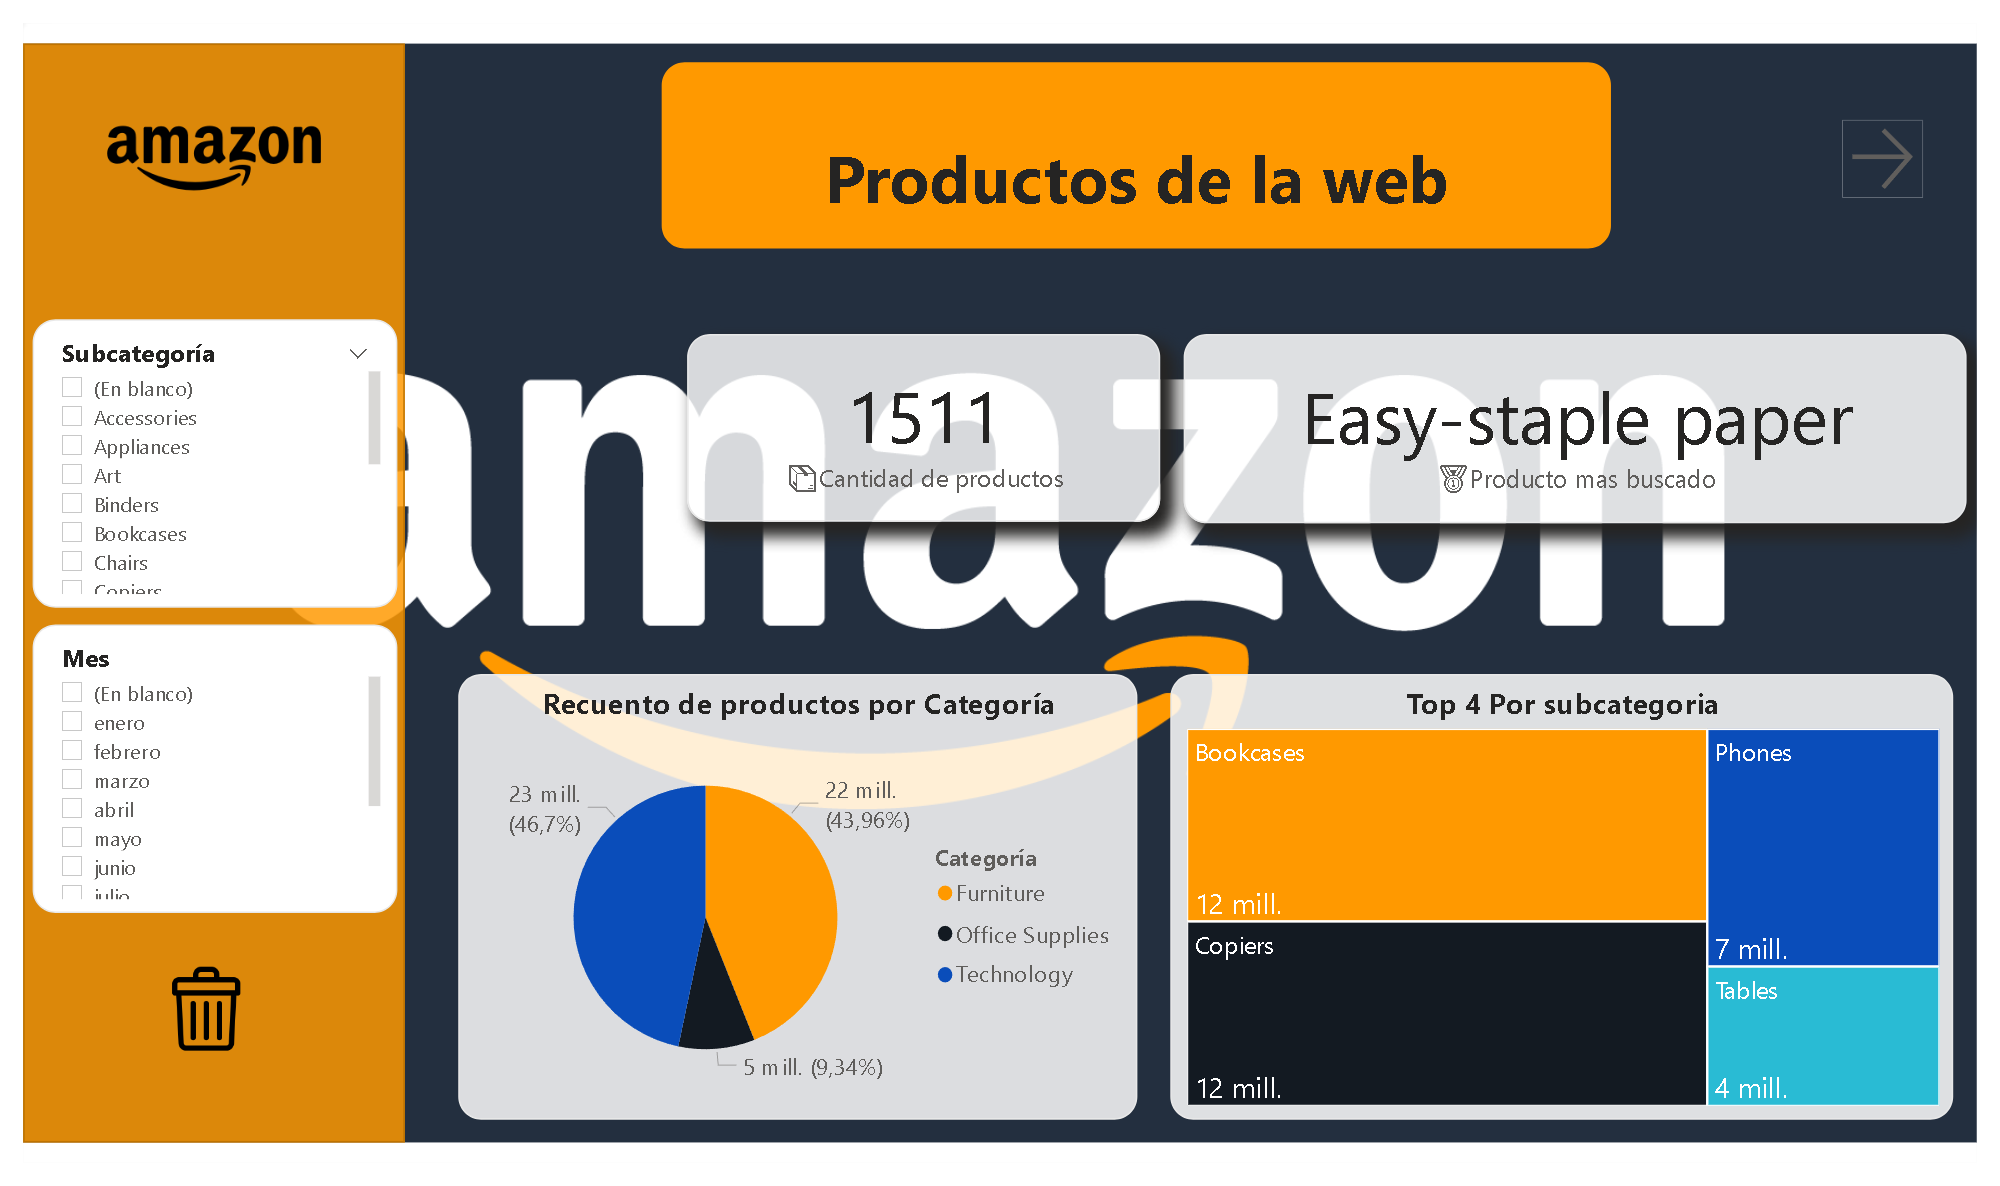

Layout of this report page (visuals, bound fields, positions):
{"tool":"powerbi","page":{"name":"Productos por Categoria","canvas":[1280,720],"ordinal":1},"visuals":[{"type":"shape","box":[0,0,249.9,720],"z":0},{"type":"pieChart","title":"Recuento de productos por Categoría","fields":{"Category":["Productos.Categoría"],"Y":["Sum(Ventas (2).Ventas)"]},"box":[285,413.1,444.6,292],"z":1000},{"type":"treemap","title":"Top 4 Por subcategoria","fields":{"Group":["Productos.Subcategoría"],"Values":["Sum(Ventas (2).Ventas)"]},"box":[751.6,413.1,513,292],"z":2000},{"type":"textbox","box":[418.3,12.3,621.8,121.9],"z":3000},{"type":"slicer","fields":{"Values":["Tabla Calendario.Nombre_mes"]},"box":[6.1,380.6,238.5,188.6],"z":4000},{"type":"slicer","fields":{"Values":["Productos.Subcategoría"]},"box":[6.1,180.7,238.5,188.6],"z":5000},{"type":"actionButton","box":[1191.8,50,52.6,50.9],"z":6000},{"type":"card","fields":{"Values":["Medidas.cantidad_de_productos"]},"box":[435,190.3,309.6,122.8],"z":7000},{"type":"card","title":"Producto mas vendido","fields":{"Values":["Medidas.moda"]},"box":[760.3,190.3,513,123.7],"z":8000},{"type":"image","box":[82.4,599.9,73.7,64.9],"z":9000},{"type":"image","box":[0,0,249.9,150],"z":10000}]}

Visuals, with their boxes in screenshot pixels (x1, y1, x2, y2):
shape: <bbox>16, 36, 401, 1146</bbox>
"Recuento de productos por Categoría" pieChart: <bbox>455, 673, 1140, 1123</bbox>
"Top 4 Por subcategoria" treemap: <bbox>1174, 673, 1964, 1123</bbox>
textbox: <bbox>660, 55, 1618, 243</bbox>
slicer - Tabla Calendario.Nombre_mes: <bbox>25, 623, 393, 914</bbox>
slicer - Productos.Subcategoría: <bbox>25, 315, 393, 606</bbox>
actionButton: <bbox>1852, 114, 1933, 192</bbox>
card - Medidas.cantidad_de_productos: <bbox>686, 330, 1163, 519</bbox>
"Producto mas vendido" card: <bbox>1187, 330, 1978, 520</bbox>
image: <bbox>143, 961, 256, 1061</bbox>
image: <bbox>16, 36, 401, 268</bbox>
